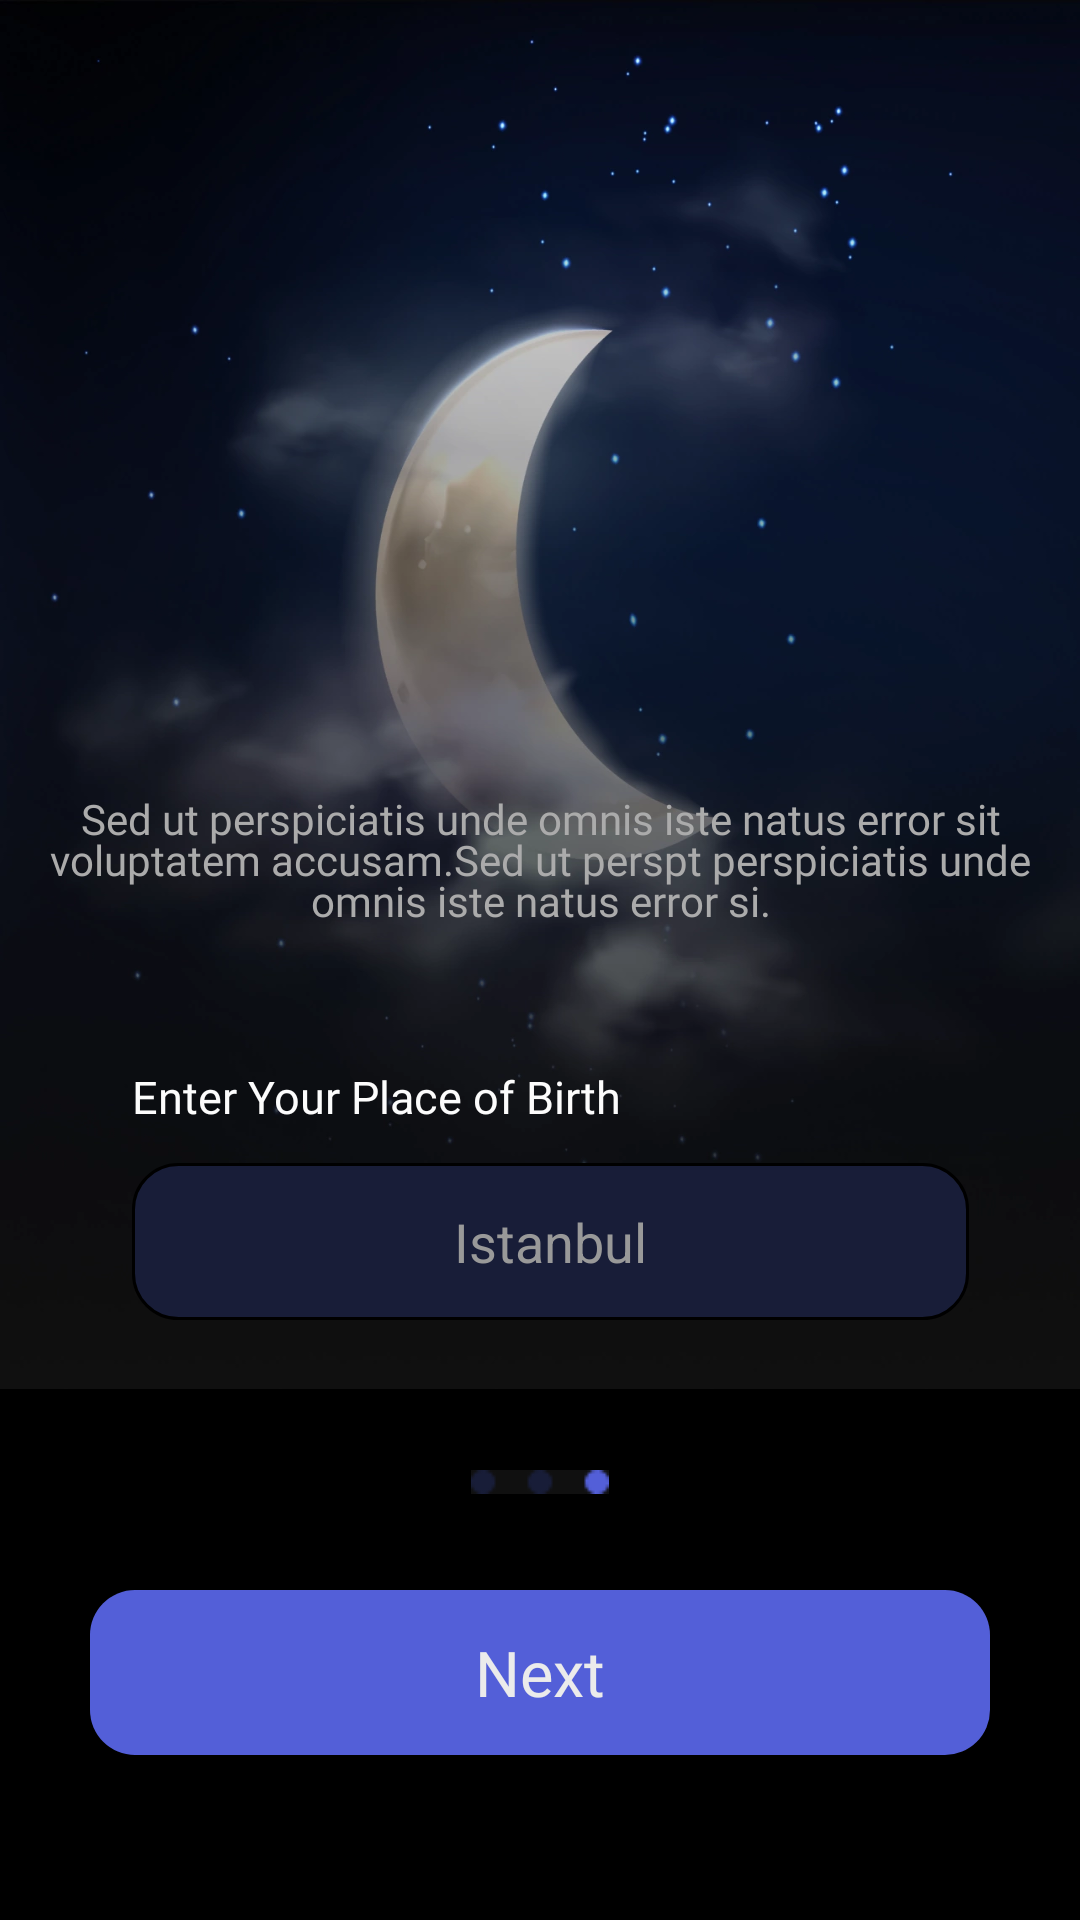

Where icons sit on this 1080w x 1920h app screen, as rect(x1, y1, x2, y2):
indicator: rect(471, 1470, 609, 1494)
